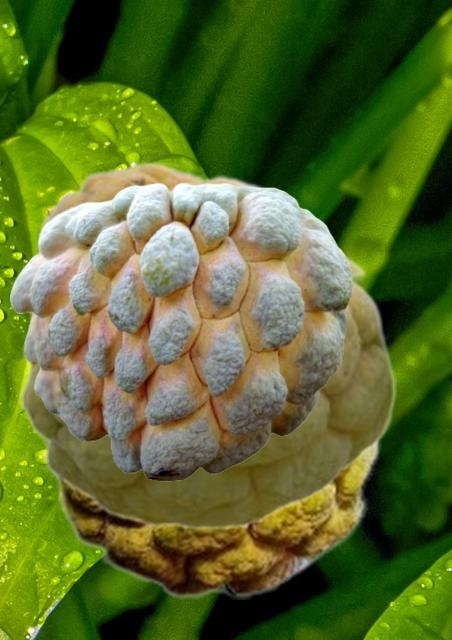atis: (18, 160, 395, 529), (10, 182, 351, 480), (48, 444, 380, 598)
